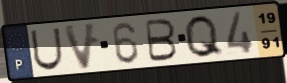4: (224, 10, 255, 56)
6: (111, 19, 141, 67)
B: (144, 18, 180, 64)
Q: (182, 14, 226, 60)
U: (29, 26, 65, 73)
V: (60, 21, 100, 72)
